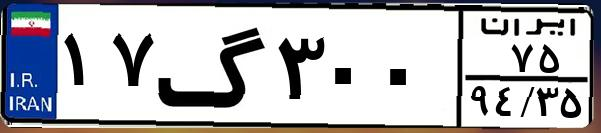0: (385, 28, 445, 110), (330, 28, 385, 110)
1: (57, 26, 110, 100)
3: (270, 28, 330, 110), (535, 70, 560, 125)
4: (495, 70, 520, 125)
5: (560, 70, 590, 125), (537, 27, 568, 80)
7: (110, 28, 156, 98), (508, 27, 537, 80)
9: (470, 70, 495, 125)
گ: (156, 12, 270, 120)
